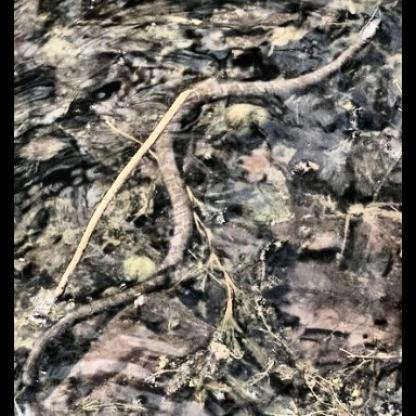Snake: (158, 22, 394, 276)
